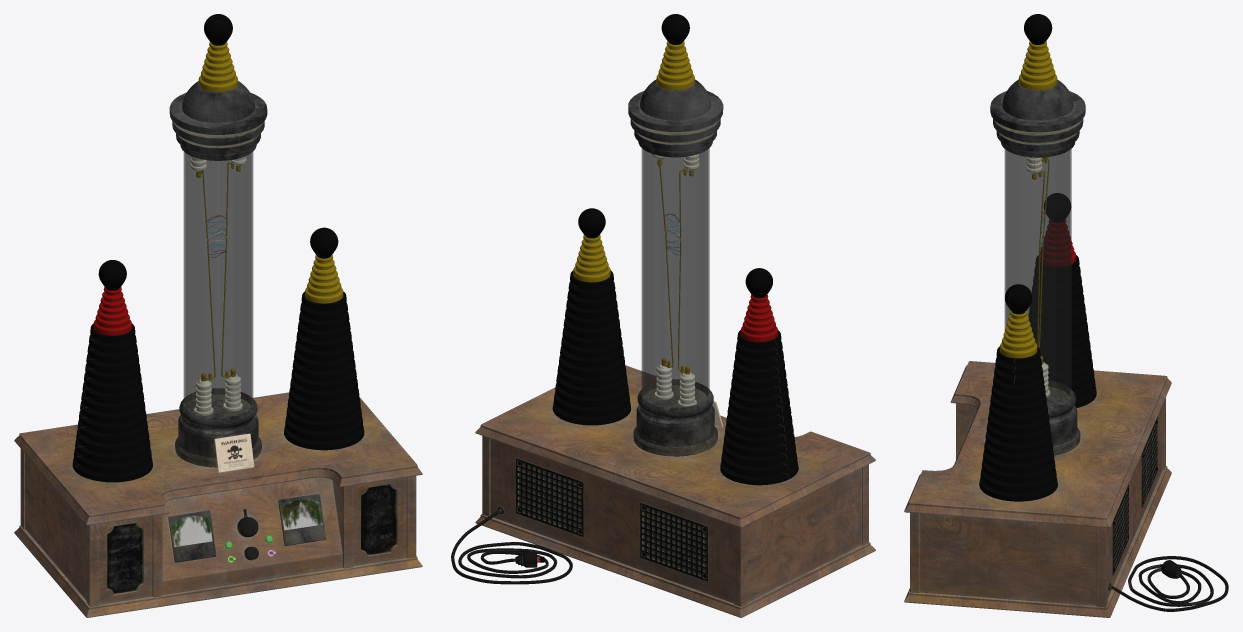
The model's file is Jacobs_Ladder_Mad_Scientist.obj.
3 views of the same model, side by side, from view 1: azimuth 30°, elevation 25°; view 2: azimuth 150°, elevation 25°; view 3: azimuth 270°, elevation 25° (orthographic). The views are drawn at different scales.
Visible parts, largest first — view 1: Base, Glass, Central_Column, Left_Cone_Electrode, Right_Cone_Electrode, Voltmeter, Ampermeter, Central_Column_Top, Right_Cone_Electrode_Top, Left_Cone_Electrode_Top, Plate, Electrodes (+3 smaller); view 2: Base, Glass, Central_Column, Right_Cone_Electrode, Left_Cone_Electrode, Cable, Central_Column_Top, Right_Cone_Electrode_Top, Left_Cone_Electrode_Top, Electrodes, Central_Column_Sphere, Right_Cone_Electrode_Sphere (+1 smaller); view 3: Base, Glass, Right_Cone_Electrode, Central_Column, Left_Cone_Electrode, Cable, Central_Column_Top, Right_Cone_Electrode_Top, Left_Cone_Electrode_Top, Electrodes, Central_Column_Sphere, Right_Cone_Electrode_Sphere (+1 smaller).
Part boxes in pixels (x1,y1,x2,y2): Base: [14, 392, 422, 617]; Glass: [183, 152, 253, 417]; Central_Column: [169, 81, 267, 467]; Left_Cone_Electrode: [72, 323, 152, 482]; Right_Cone_Electrode: [284, 291, 364, 450]; Voltmeter: [278, 493, 326, 545]; Ampermeter: [168, 510, 216, 562]; Central_Column_Top: [198, 42, 238, 91]; Right_Cone_Electrode_Top: [305, 255, 343, 303]; Left_Cone_Electrode_Top: [93, 287, 131, 335]; Plate: [214, 433, 254, 472]; Electrodes: [196, 162, 240, 381]; Base: [475, 365, 875, 617]; Glass: [641, 148, 709, 407]; Central_Column: [628, 79, 723, 456]; Right_Cone_Electrode: [552, 270, 631, 425]; Left_Cone_Electrode: [720, 330, 798, 485]; Cable: [451, 506, 572, 584]; Central_Column_Top: [656, 41, 694, 90]; Right_Cone_Electrode_Top: [573, 235, 610, 282]; Left_Cone_Electrode_Top: [740, 294, 777, 342]; Electrodes: [657, 159, 693, 374]; Central_Column_Sphere: [661, 14, 689, 44]; Right_Cone_Electrode_Sphere: [578, 208, 605, 238]; Base: [904, 361, 1171, 617]; Glass: [1004, 149, 1071, 407]; Right_Cone_Electrode: [979, 346, 1057, 501]; Central_Column: [990, 79, 1085, 455]; Left_Cone_Electrode: [1028, 255, 1096, 407]; Cable: [1108, 556, 1228, 611]; Central_Column_Top: [1018, 41, 1057, 90]; Right_Cone_Electrode_Top: [1000, 310, 1037, 358]; Left_Cone_Electrode_Top: [1040, 219, 1076, 266]; Electrodes: [1032, 157, 1049, 363]; Central_Column_Sphere: [1024, 14, 1052, 44]; Right_Cone_Electrode_Sphere: [1005, 284, 1032, 314].
Size of the model in its own units: 51.33 by 77.89 by 43.78.
Materials: 7 (2 with a texture image).
